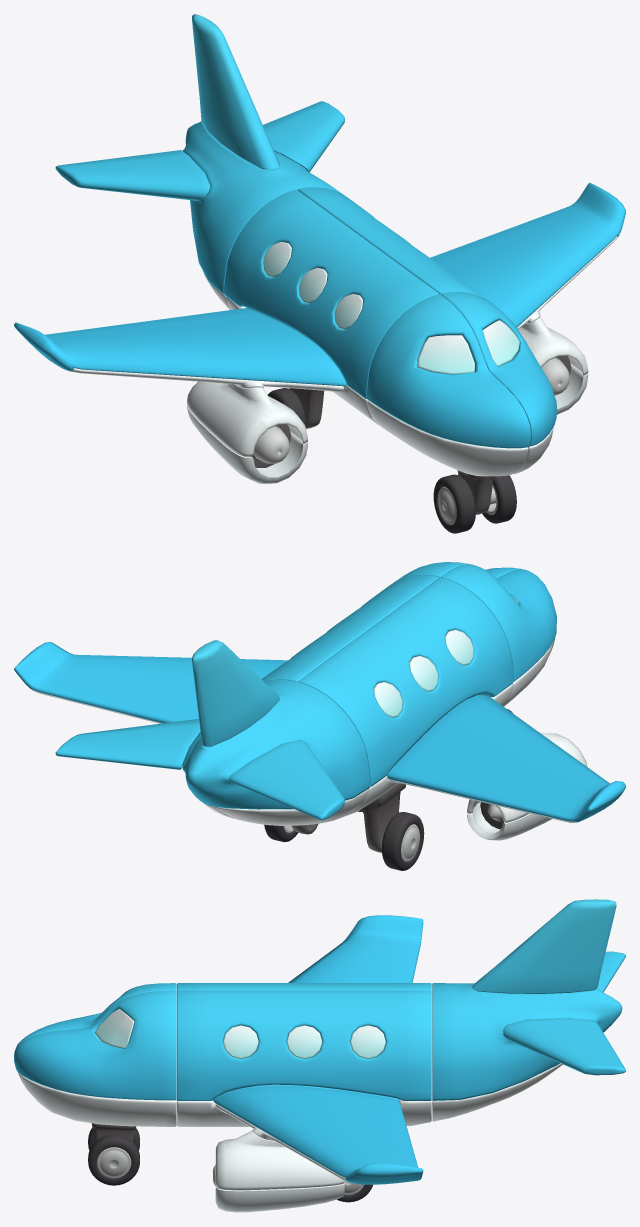
The model's file is Level_P_6.fbx.
3 renders of one model, top to bottom at view 1: azimuth 30°, elevation 25°; view 2: azimuth 150°, elevation 25°; view 3: azimuth 270°, elevation 25°, orthographic. The views are drawn at different scales.
Parts seen in each view (by area): view 1: Plane_Top.008, Plane_Top.011, Wings_&_Seats.002, Wings_&_Seats, Plane_Top.004, Plane_Top.002, Plane_Bottom.001, Plane_Top.007, Plane_Top, Plane_Bottom.005, Plane_Top.001, Engine_Bottom_02 (+14 smaller); view 2: Plane_Top.008, Wings_&_Seats.002, Plane_Top.004, Wings_&_Seats, Plane_Top.011, Plane_Top.002, Plane_Top.007, Plane_Top.001, Plane_Top, Wheel_Cap_03, Plane_Bottom.004, Plastic_Support_02 (+8 smaller); view 3: Plane_Top, Plane_Top.011, Plane_Top.004, Wings_&_Seats, Plane_Top.002, Wings_&_Seats.002, Plane_Bottom.008, Plane_Top.001, Plane_Bottom.010, Engine_Bottom002, Wheel_Cap_02, Plane_Bottom.006 (+10 smaller).
Part boxes in pixels (box(x1,y1,x2,y2)): Plane_Top.008: box(224, 189, 438, 398); Plane_Top.011: box(367, 292, 556, 448); Wings_&_Seats.002: box(14, 308, 346, 386); Wings_&_Seats: box(430, 182, 625, 327); Plane_Top.004: box(183, 121, 343, 293); Plane_Top.002: box(192, 14, 279, 169); Plane_Bottom.001: box(187, 381, 307, 456); Plane_Top.007: box(55, 150, 210, 200); Plane_Top: box(298, 187, 489, 301); Plane_Bottom.005: box(367, 400, 528, 476); Plane_Top.001: box(263, 101, 344, 172); Engine_Bottom_02: box(187, 404, 307, 483); Plane_Top.008: box(298, 577, 513, 786); Wings_&_Seats.002: box(386, 696, 625, 822); Plane_Top.004: box(182, 679, 370, 809); Wings_&_Seats: box(14, 642, 287, 723); Plane_Top.011: box(395, 562, 556, 681); Plane_Top.002: box(192, 640, 279, 746); Plane_Top.007: box(229, 739, 344, 820); Plane_Top.001: box(55, 719, 200, 769); Plane_Top: box(261, 575, 438, 681); Wheel_Cap_03: box(381, 812, 424, 870); Plane_Bottom.004: box(214, 789, 368, 825); Plastic_Support_02: box(292, 783, 405, 852); Plane_Top: box(177, 990, 431, 1100); Plane_Top.011: box(14, 983, 176, 1100); Plane_Top.004: box(432, 983, 622, 1100); Wings_&_Seats: box(213, 1085, 423, 1184); Plane_Top.002: box(472, 899, 616, 993); Wings_&_Seats.002: box(288, 915, 423, 982); Plane_Bottom.008: box(215, 1131, 344, 1190); Plane_Top.001: box(503, 1018, 625, 1075); Plane_Bottom.010: box(18, 1072, 176, 1126); Engine_Bottom002: box(215, 1182, 344, 1212); Wheel_Cap_02: box(88, 1134, 139, 1185); Plane_Bottom.006: box(177, 1099, 431, 1126).
Size of the model in its own units: 6.32 by 3.17 by 6.43.
